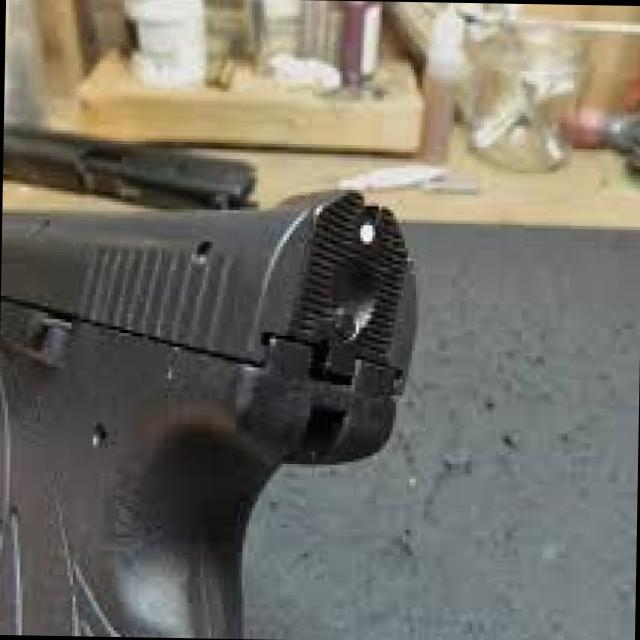Gun: (0, 81, 401, 640)
